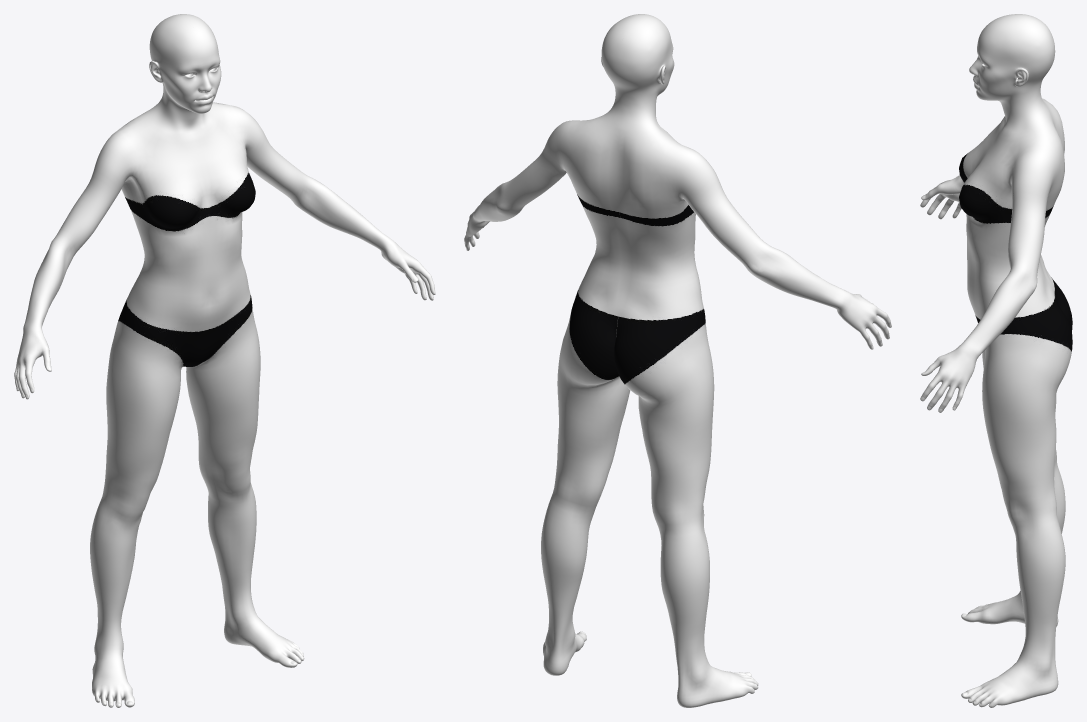
Rendered from alki_humgen_female_lean.glb.
3 views of the same model, side by side, from view 1: azimuth 30°, elevation 25°; view 2: azimuth 150°, elevation 25°; view 3: azimuth 270°, elevation 25° (orthographic). The views are drawn at different scales.
Parts seen in each view (by area): view 1: ALKI_female_lean_preview; view 2: ALKI_female_lean_preview; view 3: ALKI_female_lean_preview.
Part boxes in pixels (x1=…): ALKI_female_lean_preview: x1=14, y1=14, x2=435, y2=707; ALKI_female_lean_preview: x1=464, y1=14, x2=891, y2=707; ALKI_female_lean_preview: x1=920, y1=14, x2=1072, y2=707.
Bounding box in the file's own units: 1.17 × 1.78 × 0.3822.
Materials: 1 (1 with a texture image).
